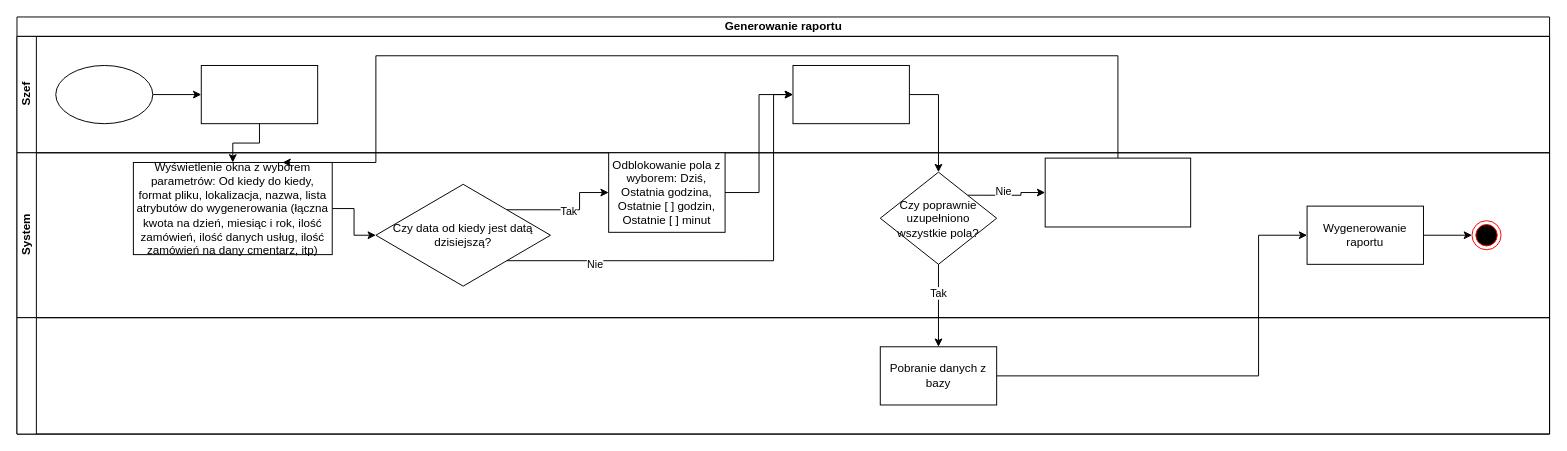
Image size: 1567x451. Some labels were removed from this diagram. Here are the shapes that lost their labels. From the top down, the box of each, then its label:
(55, 65, 153, 124): Start
(200, 65, 318, 124): Kliknięcie przycisku ,,Stwórz raport"
(792, 65, 909, 124): Kliknięcie przycisku ,,Generuj raport"
(1044, 157, 1191, 227): Wyświetlenie komunikatu o uzupełnieniu wszystkich wymaganych pól
(16, 317, 1550, 434): Baza danych
